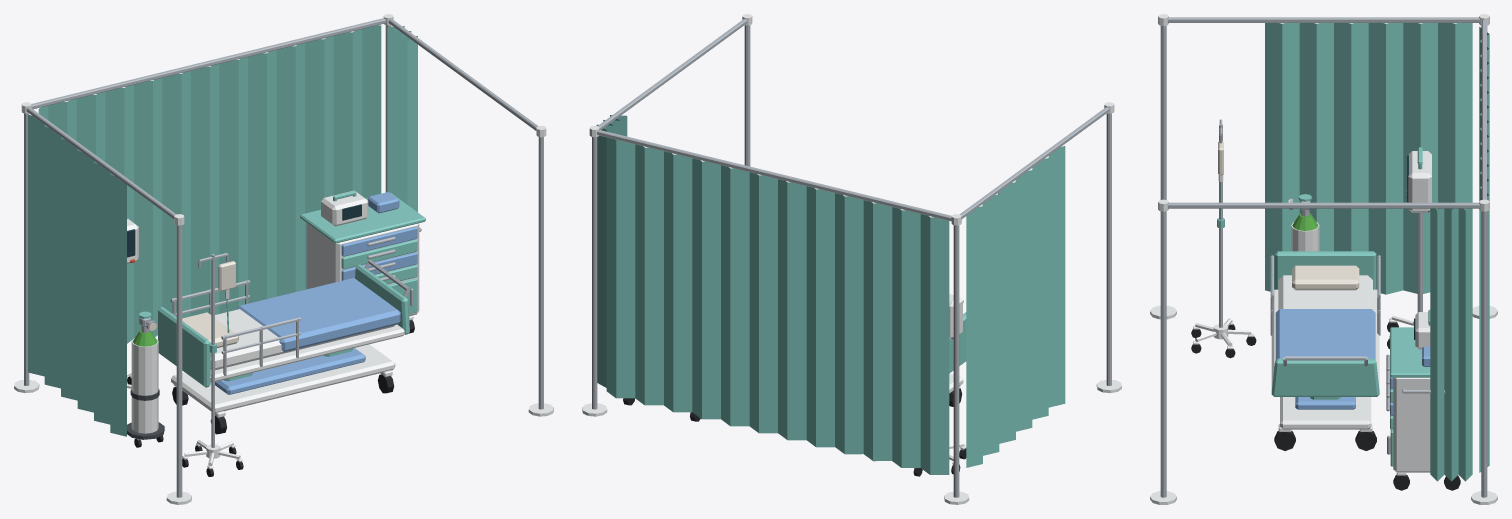
Rendered from emergency-room-bay.glb.
The picture shows the model from 3 angles, left to right: view 1: azimuth 30°, elevation 25°; view 2: azimuth 150°, elevation 25°; view 3: azimuth 270°, elevation 25°; orthographic projection. The views are drawn at different scales.
Parts seen in each view (by area): view 1: Curtain_Back, Curtain_Left, Trolley_Bed, Curtain_Track, Crash_Cart, Curtain_Right, Oxygen_Tank, IV_Pole, Drawer_1, Drawer_2, Rail_L, Drawer_3 (+1 smaller); view 2: Curtain_Back, Curtain_Left, Curtain_Track, Curtain_Right, Trolley_Bed, Heart_Monitor; view 3: Curtain_Left, Trolley_Bed, Curtain_Right, Curtain_Track, Crash_Cart, Curtain_Back, Heart_Monitor, IV_Pole, Oxygen_Tank.
Boxes of the visible parts, bbox=[...] form: Curtain_Back: bbox=[38, 25, 381, 343]; Curtain_Left: bbox=[28, 114, 126, 436]; Trolley_Bed: bbox=[158, 259, 409, 434]; Curtain_Track: bbox=[14, 14, 553, 504]; Crash_Cart: bbox=[300, 190, 425, 333]; Curtain_Right: bbox=[387, 26, 417, 212]; Oxygen_Tank: bbox=[127, 311, 164, 447]; IV_Pole: bbox=[182, 253, 243, 476]; Drawer_1: bbox=[341, 226, 417, 256]; Drawer_2: bbox=[341, 239, 417, 269]; Rail_L: bbox=[221, 317, 300, 375]; Drawer_3: bbox=[341, 252, 417, 280]; Curtain_Back: bbox=[606, 137, 949, 474]; Curtain_Left: bbox=[966, 146, 1065, 467]; Curtain_Track: bbox=[582, 14, 1121, 504]; Curtain_Right: bbox=[596, 115, 627, 387]; Trolley_Bed: bbox=[949, 312, 966, 406]; Heart_Monitor: bbox=[913, 294, 966, 476]; Curtain_Left: bbox=[1265, 22, 1472, 294]; Trolley_Bed: bbox=[1271, 251, 1379, 450]; Curtain_Right: bbox=[1430, 208, 1472, 481]; Curtain_Track: bbox=[1150, 14, 1497, 504]; Crash_Cart: bbox=[1390, 309, 1460, 490]; Curtain_Back: bbox=[1479, 27, 1489, 472]; Heart_Monitor: bbox=[1387, 147, 1431, 348]; IV_Pole: bbox=[1191, 119, 1256, 358]; Oxygen_Tank: bbox=[1288, 194, 1319, 251].
Bounding box in the file's own units: 13.76 × 9.73 × 10.3.
